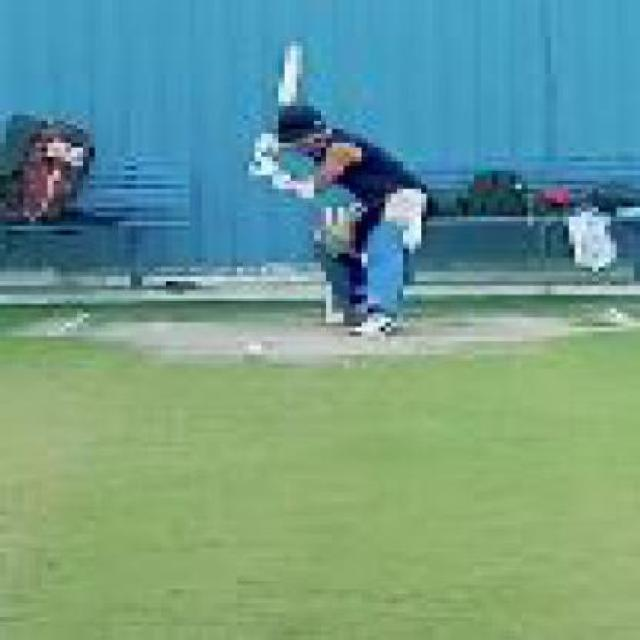ball: (238, 336, 278, 369)
